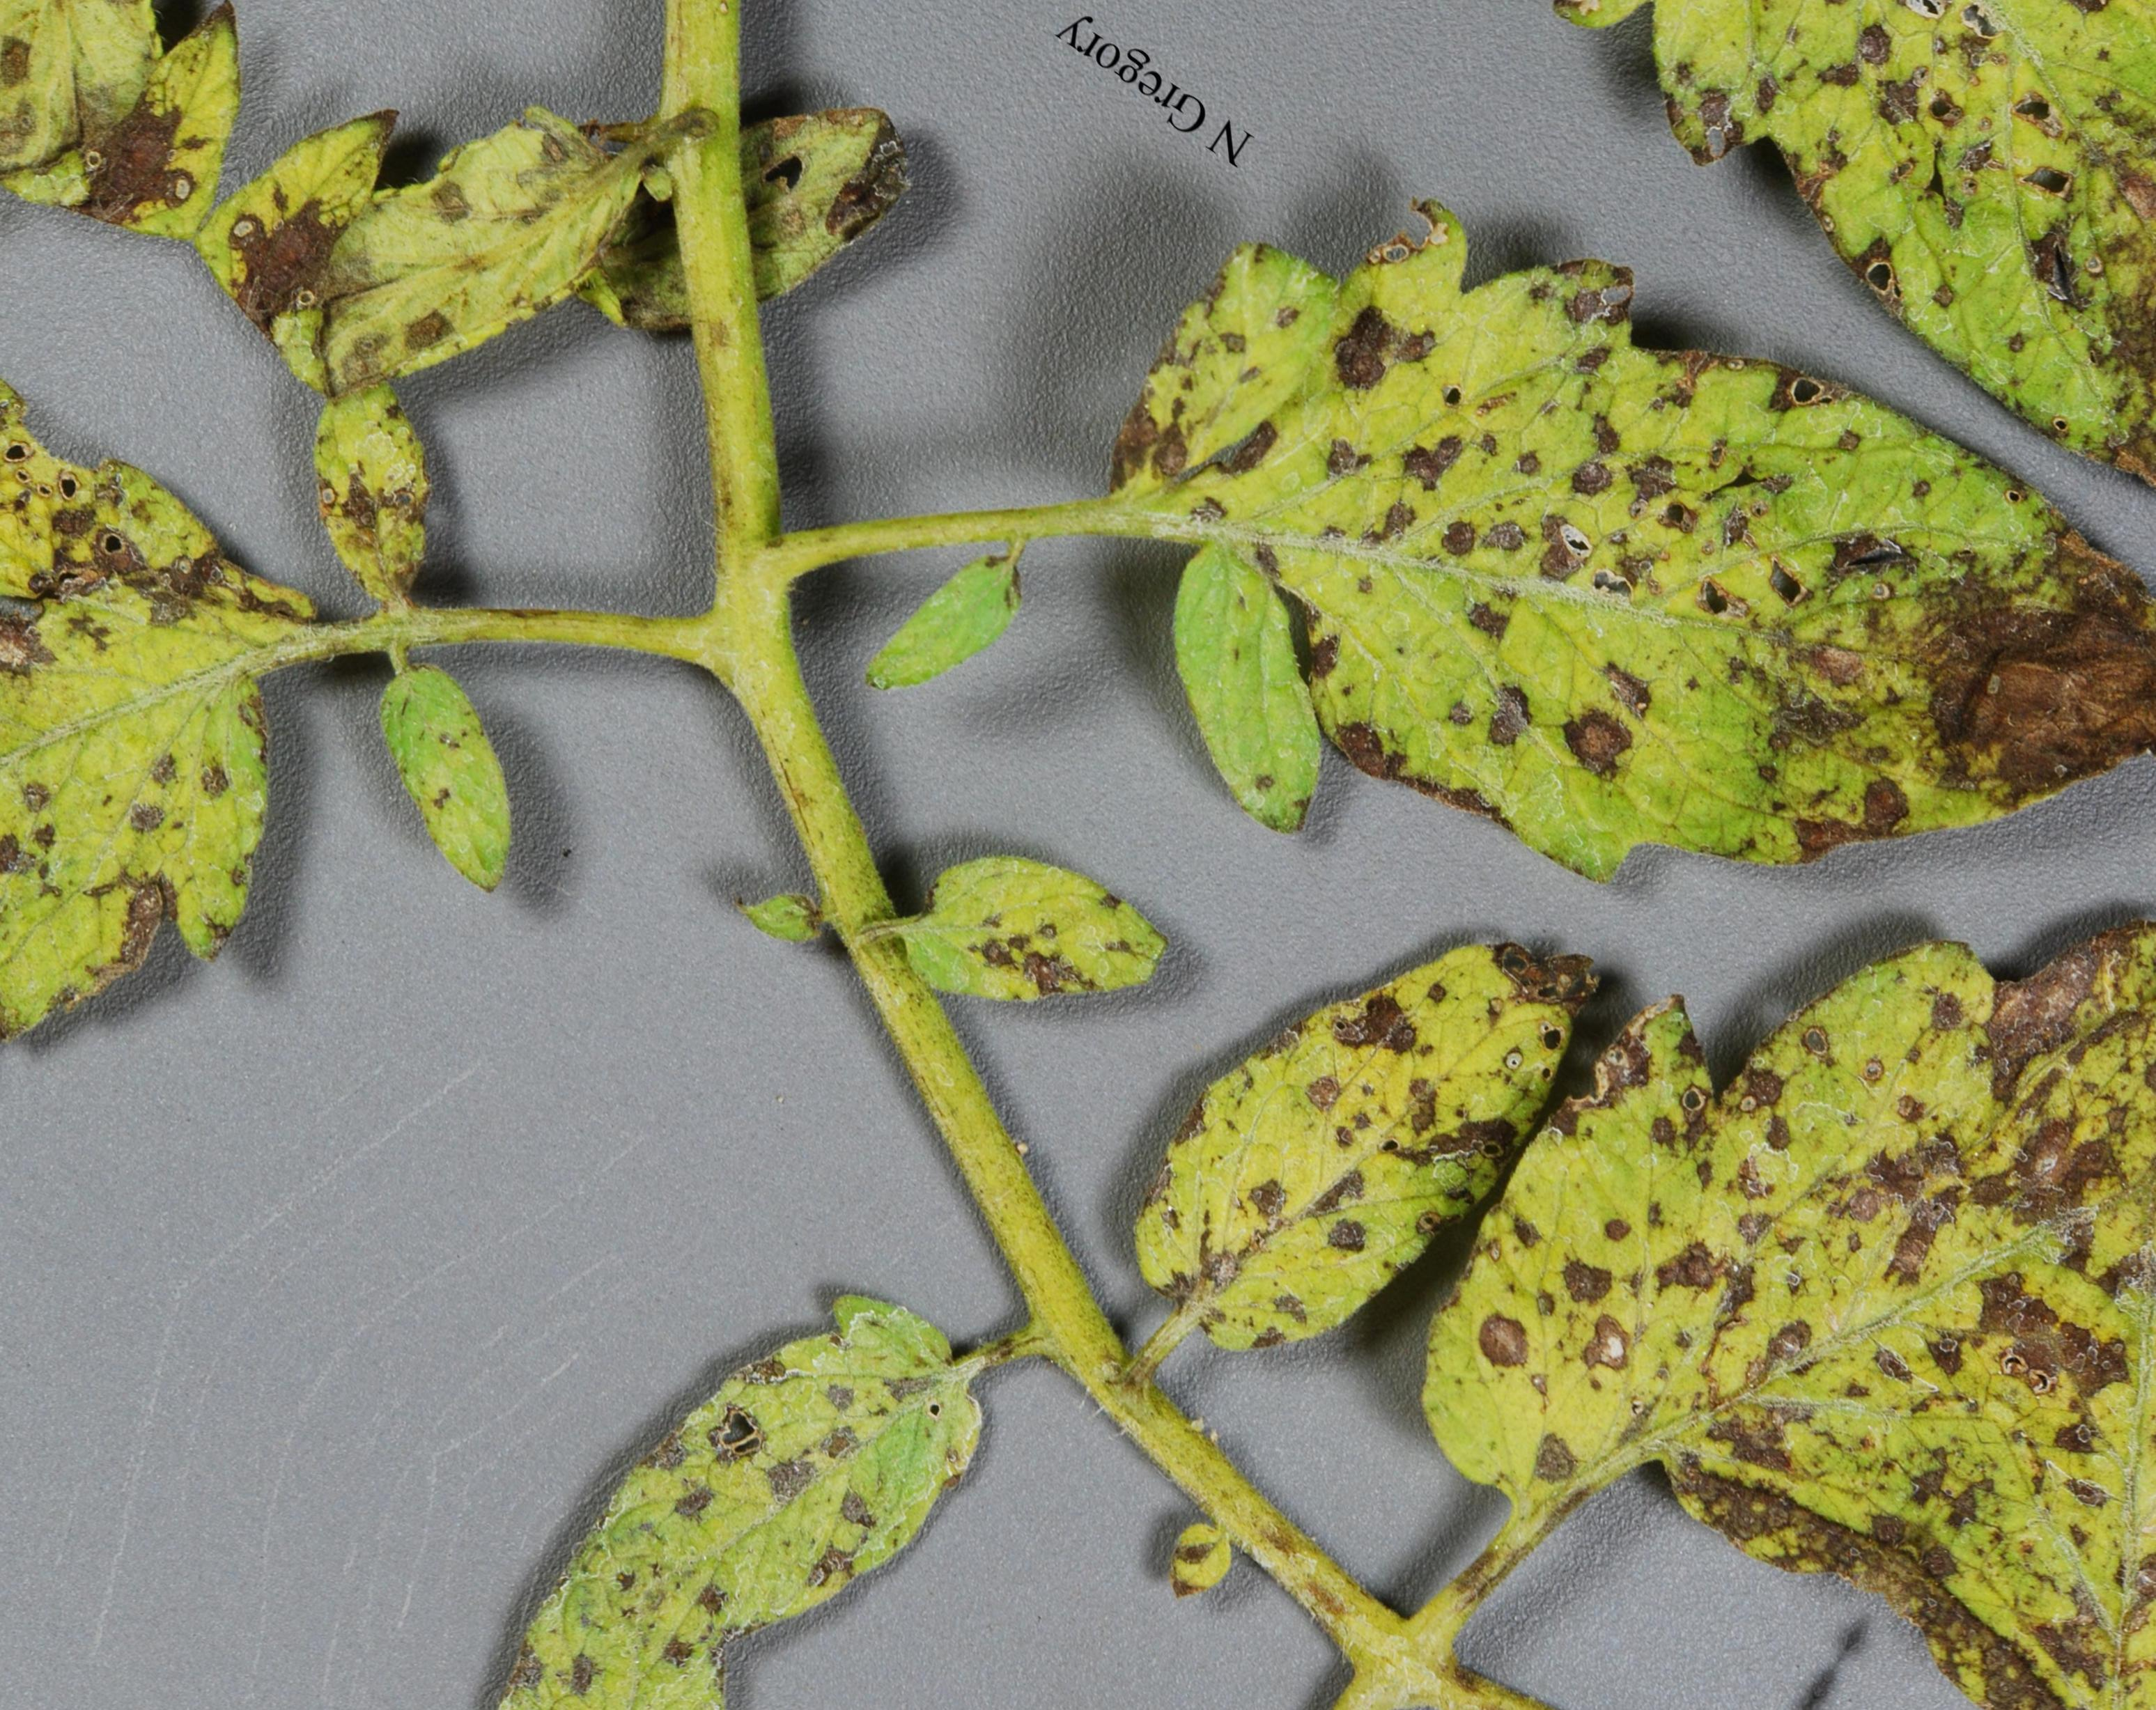Tomato Septoria leaf spot: (985, 35, 2156, 1215), (1311, 574, 2156, 1710), (0, 361, 530, 1236), (1092, 791, 1685, 1449), (513, 1174, 1090, 1710), (143, 0, 698, 518), (857, 733, 1251, 1115)
